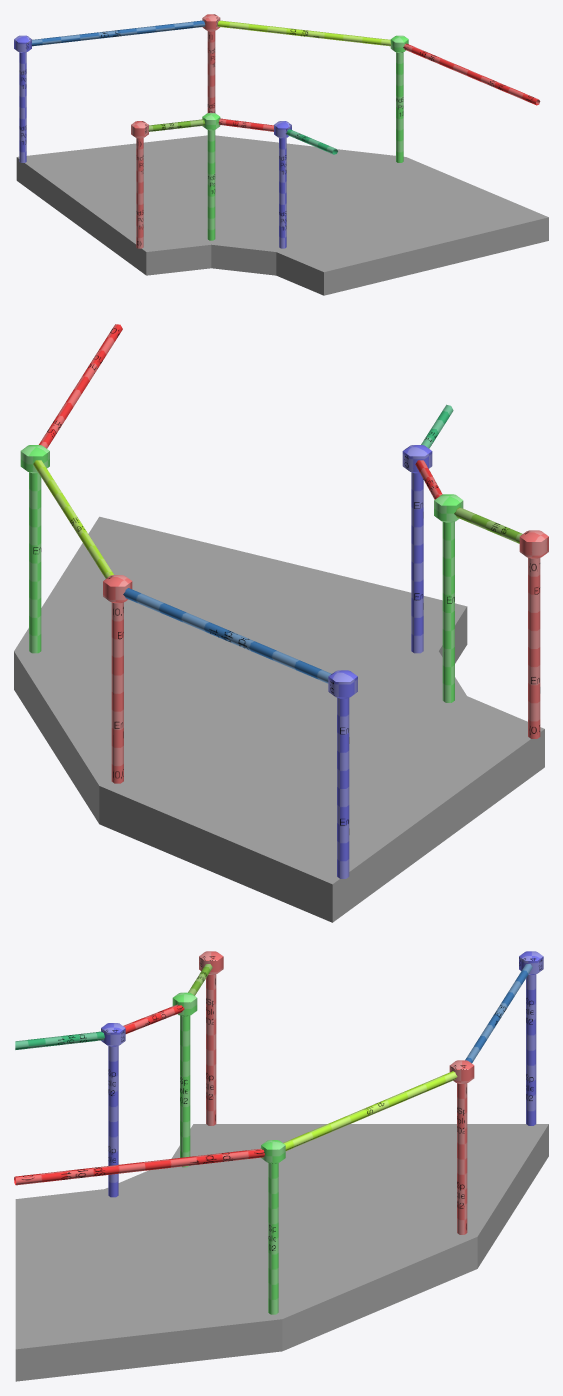
The model's file is bridge_round_left.fbx.
3 views of the same model, one above another, from view 1: azimuth 30°, elevation 25°; view 2: azimuth 150°, elevation 25°; view 3: azimuth 270°, elevation 25° (orthographic). The views are drawn at different scales.
Visible parts, largest first — view 1: bridge_round_left_floor, bridge_round_left; view 2: bridge_round_left_floor, bridge_round_left; view 3: bridge_round_left_floor, bridge_round_left.
Part boxes in pixels (x1,y1,x2,y2): bridge_round_left_floor: (16, 135, 548, 295); bridge_round_left: (14, 14, 540, 248); bridge_round_left_floor: (14, 516, 544, 922); bridge_round_left: (20, 324, 548, 878); bridge_round_left_floor: (15, 1124, 548, 1381); bridge_round_left: (14, 951, 543, 1314).
Bounding box in the file's own units: 306 × 126 × 301.
